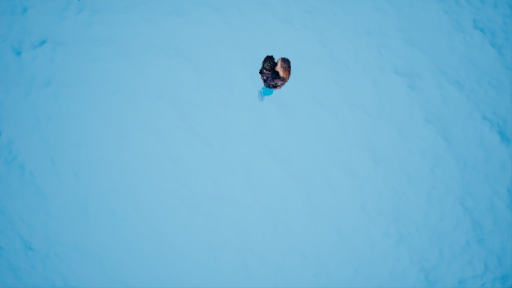person: (254, 49, 299, 109)
